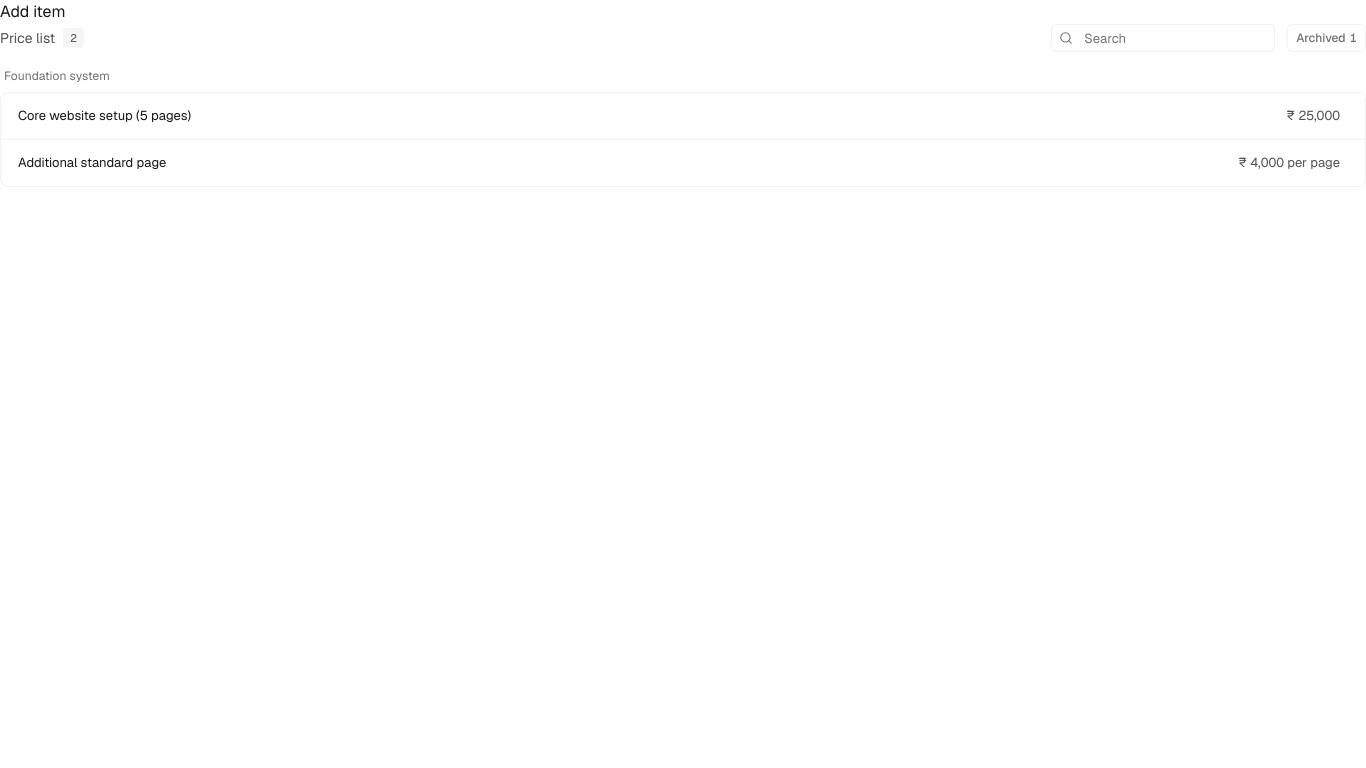
Test: editing one item › refuses a band whose top is below its rate
Click the button "Core website setup (5 pages)" at x=105, y=116, box x1=17 y1=105 x2=1261 y2=127
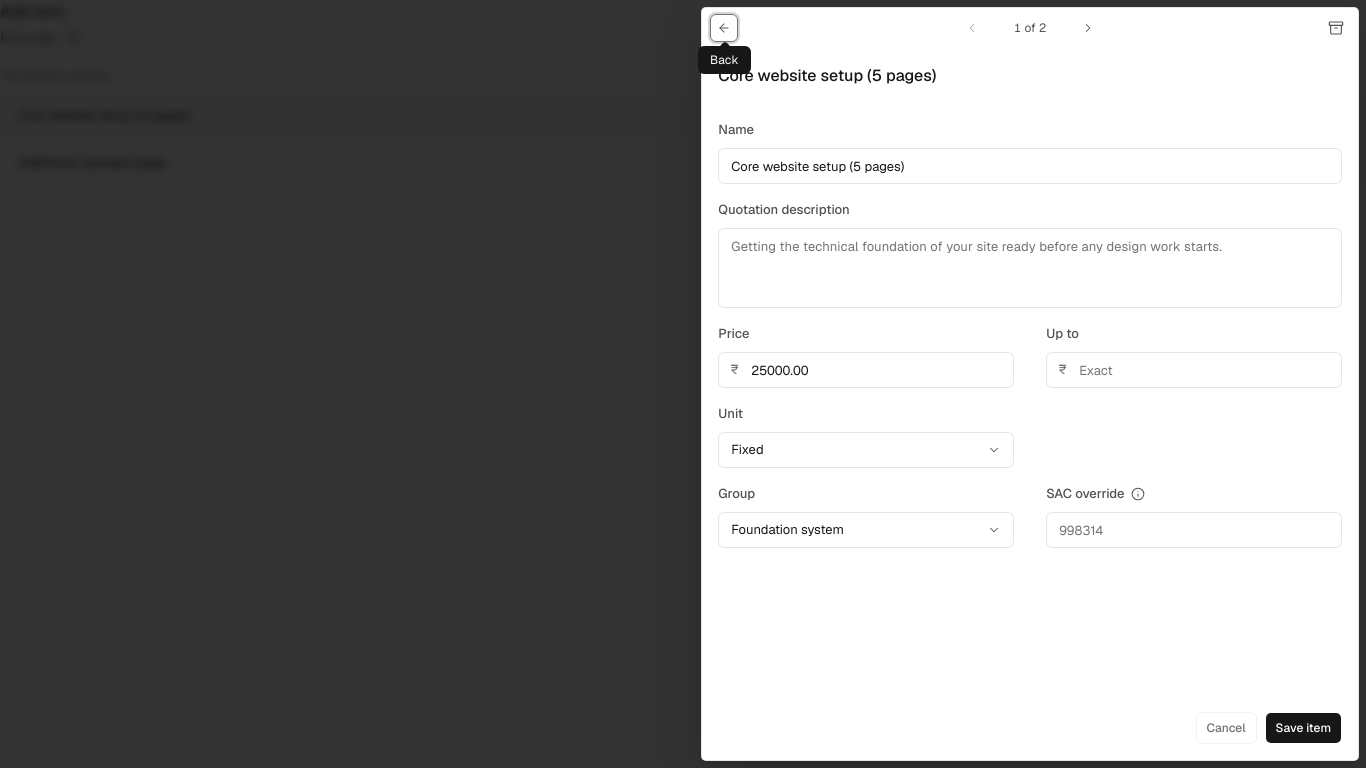
Type "8000" into the field labelled "Up to" at x=1194, y=370, box x1=1046 y1=352 x2=1342 y2=388
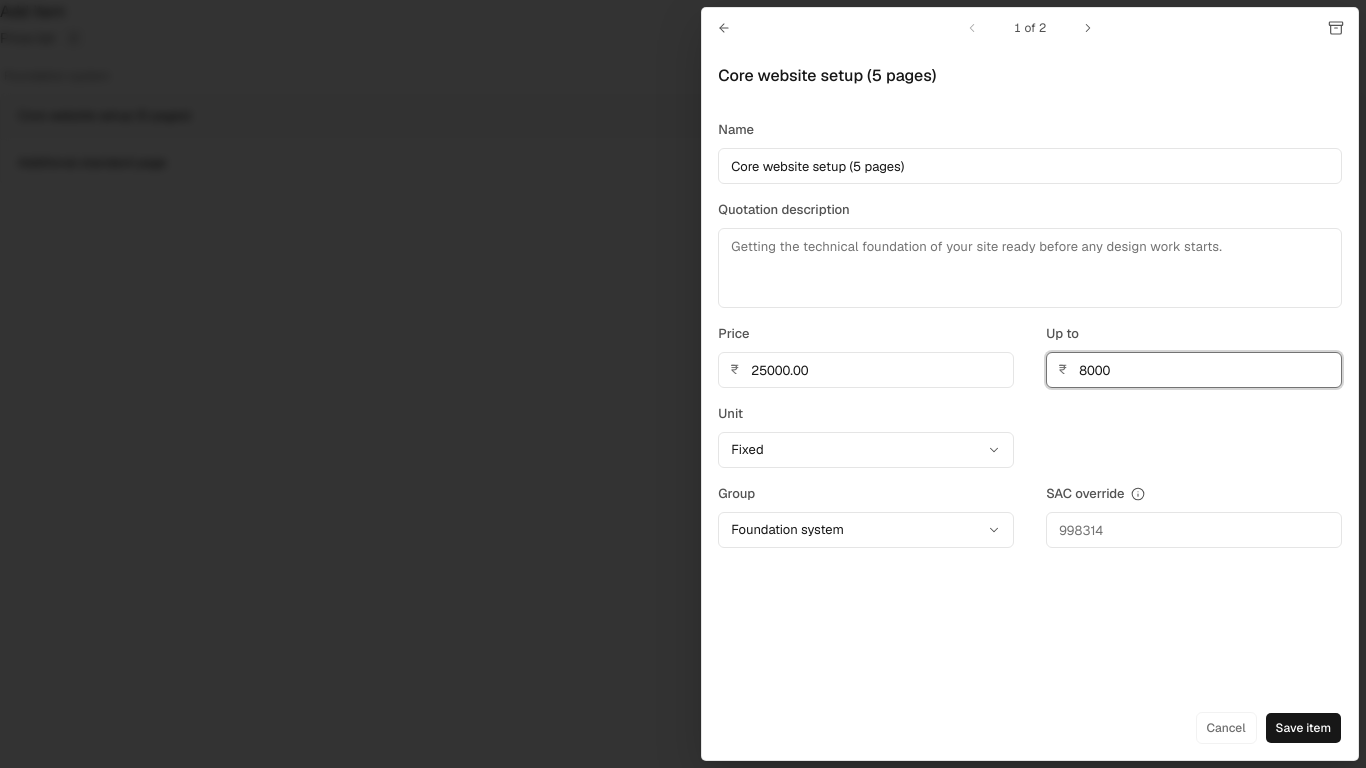
Click the button "Save item" at x=1303, y=728, box x1=1265 y1=712 x2=1342 y2=744
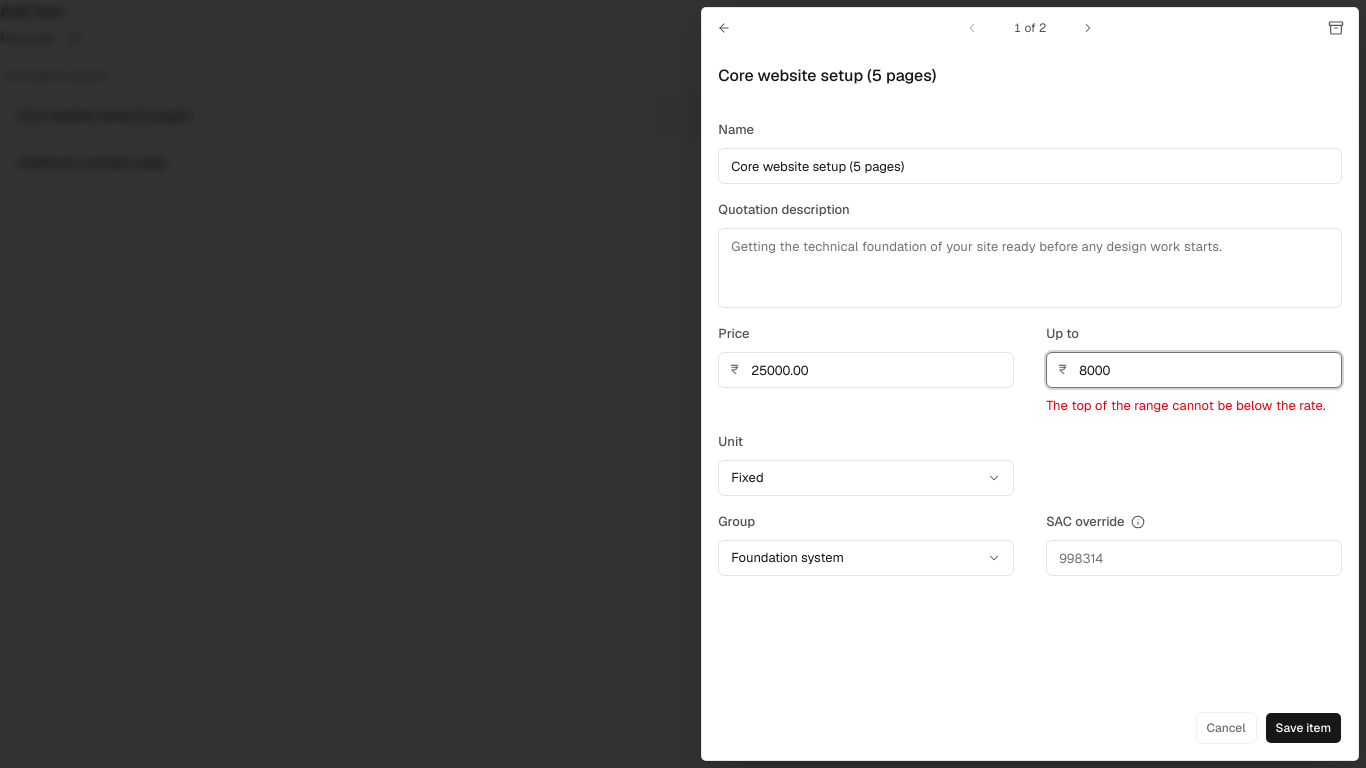
expect the text "The top of the range cannot be below the rate." is shown: met, box x1=1046 y1=396 x2=1342 y2=416
